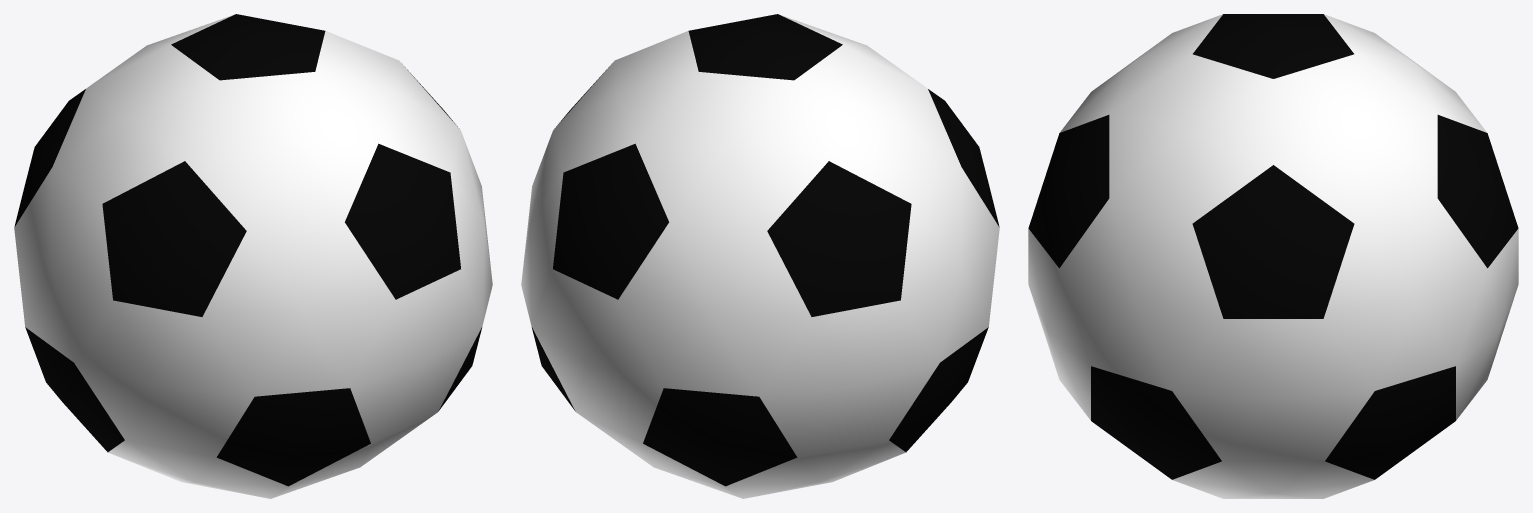
The model's file is soccer_ball.glb.
3 renders of one model, left to right at view 1: azimuth 30°, elevation 25°; view 2: azimuth 150°, elevation 25°; view 3: azimuth 270°, elevation 25°, orthographic. The views are drawn at different scales.
Parts seen in each view (by area): view 1: soccer_ball.jpg__; view 2: soccer_ball.jpg__; view 3: soccer_ball.jpg__.
Boxes of the visible parts, x1,y1,x2,y2 form: soccer_ball.jpg__: [14, 14, 492, 498]; soccer_ball.jpg__: [521, 14, 999, 498]; soccer_ball.jpg__: [1028, 14, 1518, 498].
Bounding box in the file's own units: 1.76 × 1.84 × 1.79.
1 material, 1 textured.
